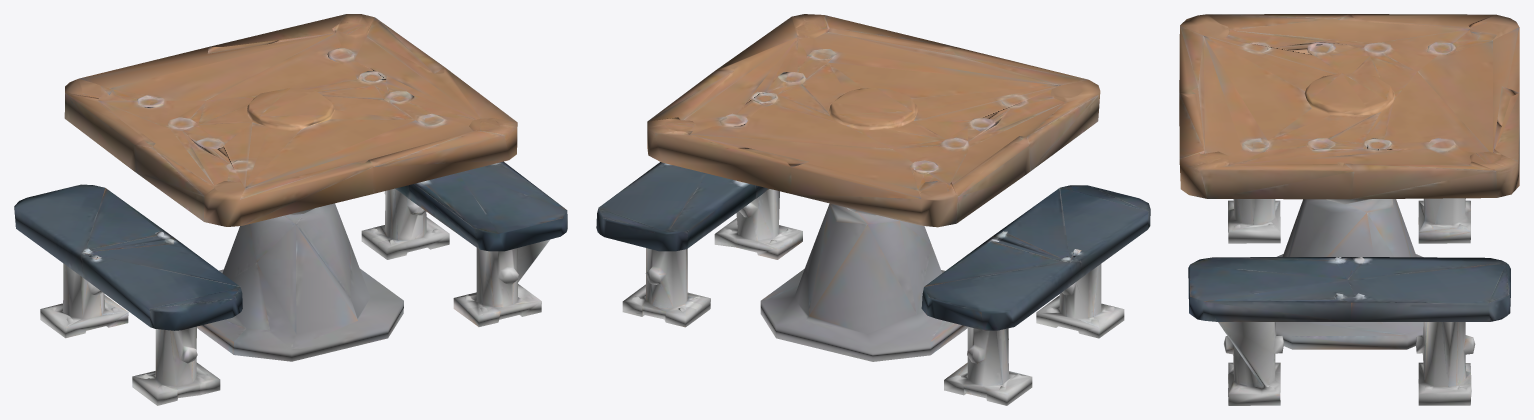
The picture shows the model from 3 angles, left to right: view 1: azimuth 30°, elevation 25°; view 2: azimuth 150°, elevation 25°; view 3: azimuth 270°, elevation 25°; orthographic projection. The views are drawn at different scales.
Bounding box in the file's own units: 1.9 × 0.9199 × 1.3.
1 material, 1 textured.
